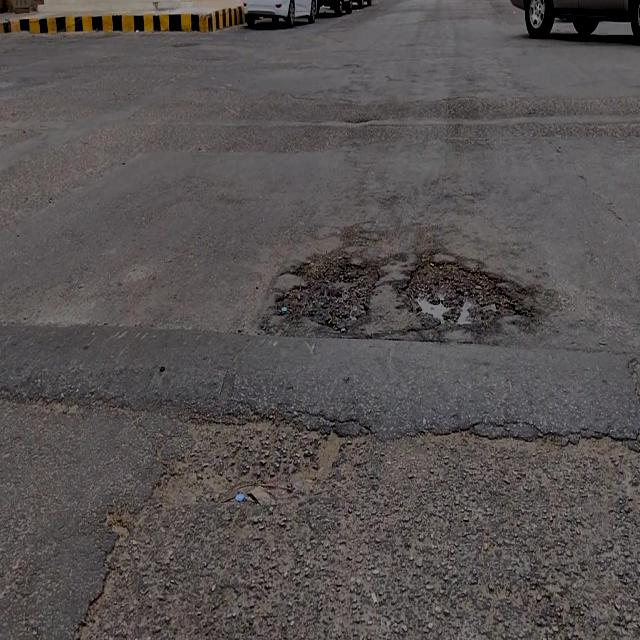Potholes: (403, 257, 527, 328), (276, 245, 380, 328)
